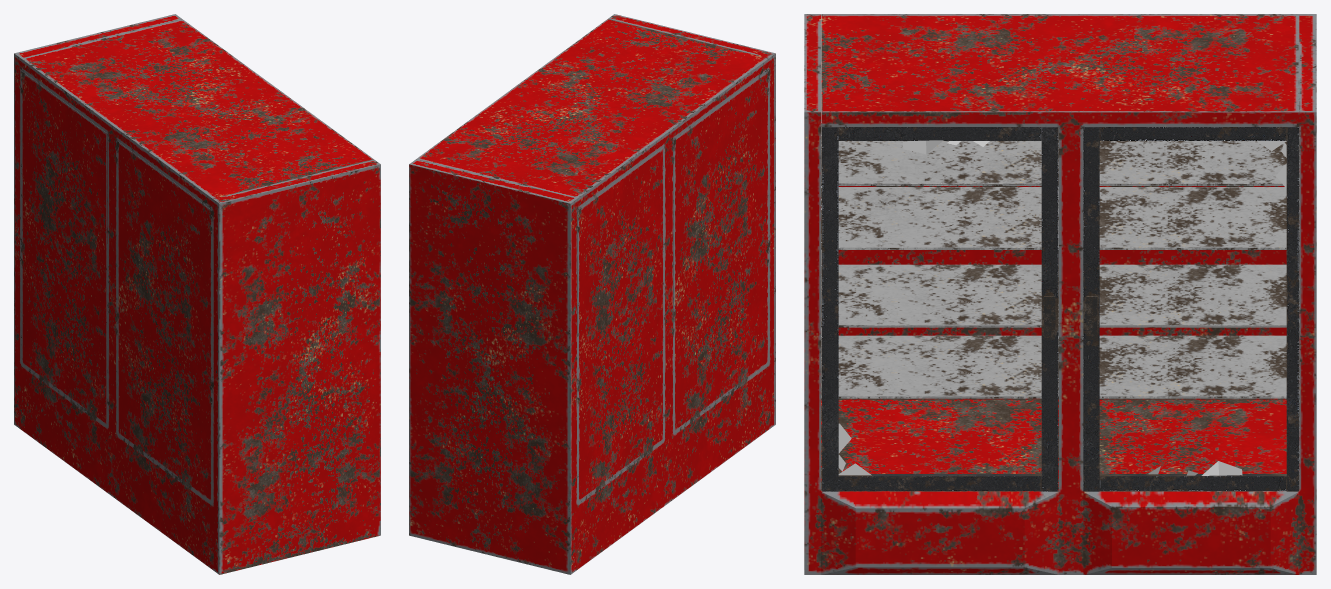
The model's file is rusty_freezer.glb.
3 renders of one model, left to right at view 1: azimuth 30°, elevation 25°; view 2: azimuth 150°, elevation 25°; view 3: azimuth 270°, elevation 25°, orthographic. The views are drawn at different scales.
Visible parts, largest first — view 1: Cube; view 2: Cube; view 3: Cube, Plane, Cube.001, Plane.001, Cube.002.
Boxes of the visible parts, box(x1,y1,x2,y2) form: Cube: box(14, 14, 380, 574); Cube: box(409, 14, 775, 574); Cube: box(804, 14, 1316, 574); Plane: box(821, 123, 1299, 398); Cube.001: box(822, 127, 1298, 491); Plane.001: box(838, 140, 1286, 475); Cube.002: box(1044, 296, 1097, 339).
Bounding box in the file's own units: 338 × 710 × 712.
5 materials, 5 textured.
